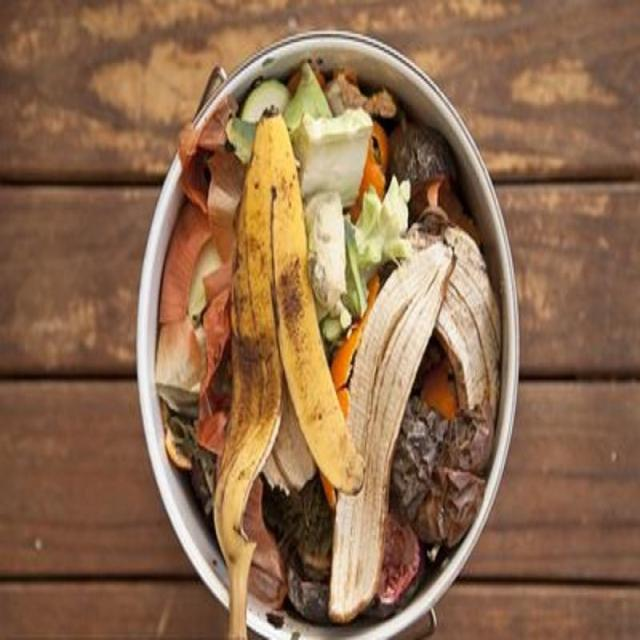Wet Waste: (153, 56, 502, 639)
